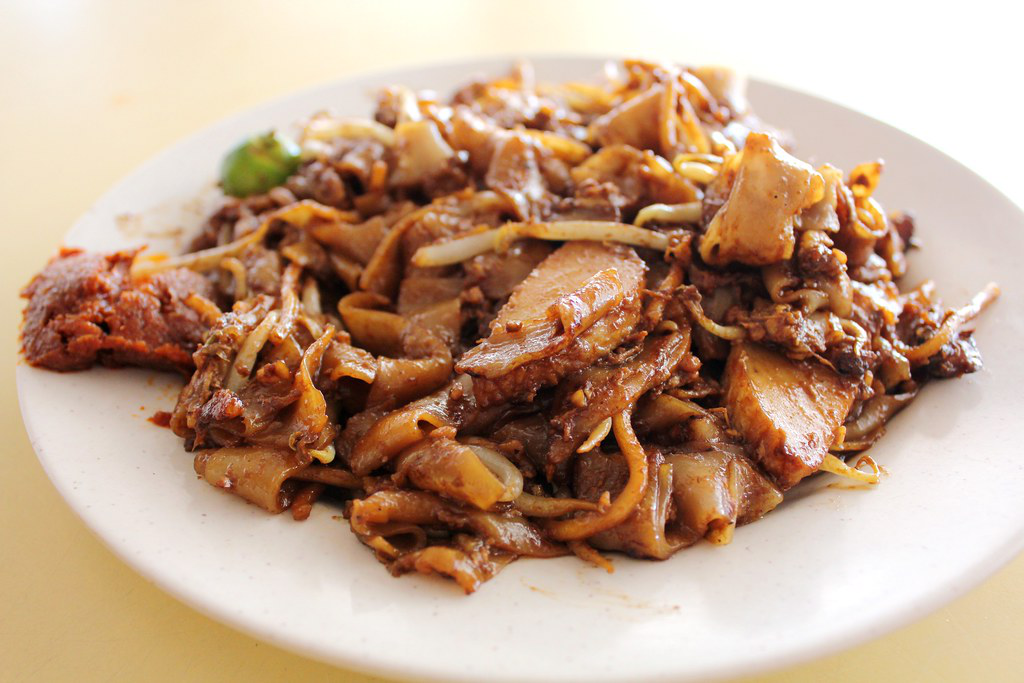Char Kway Teow: (79, 45, 967, 566)
